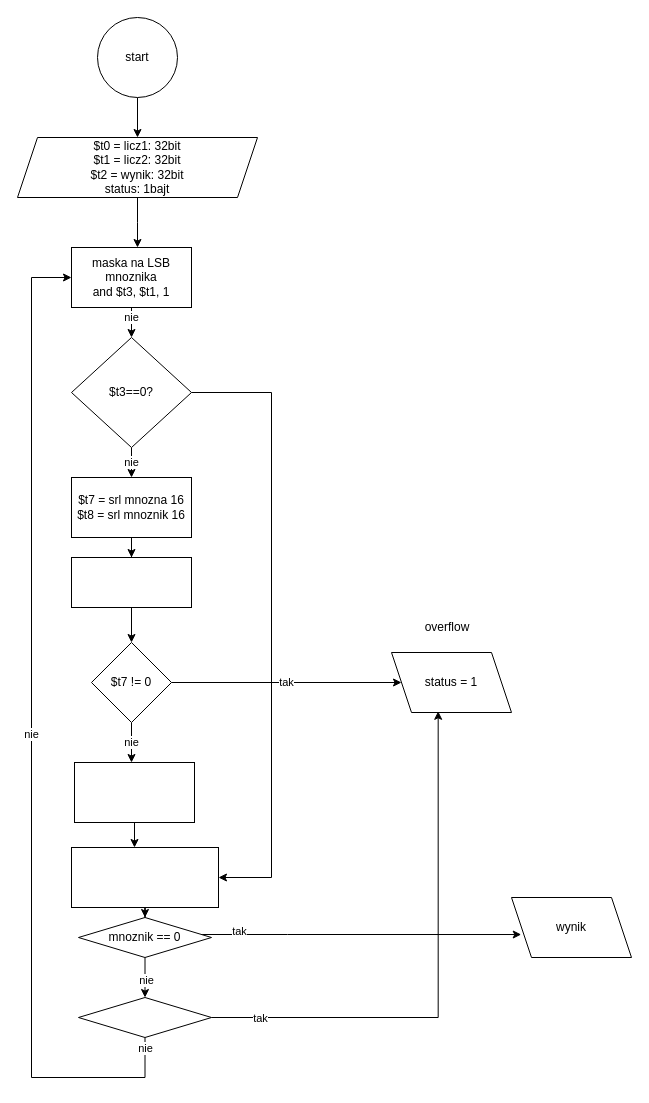
This 649x1103 diagram has some shape labels left out. The centre of each missing label's shape, as x and y in pixels:
"$t6 != 0" goes at point (145, 1017).
"$t6 = srl mnozna 30 mnozna = srl mnozna 1 wynik = srl wynik 1" goes at point (144, 877).
"add $t7 $t7 $t8 $t7 = srl $t7 15" goes at point (131, 582).
"wynik += mnozna" goes at point (134, 792).
